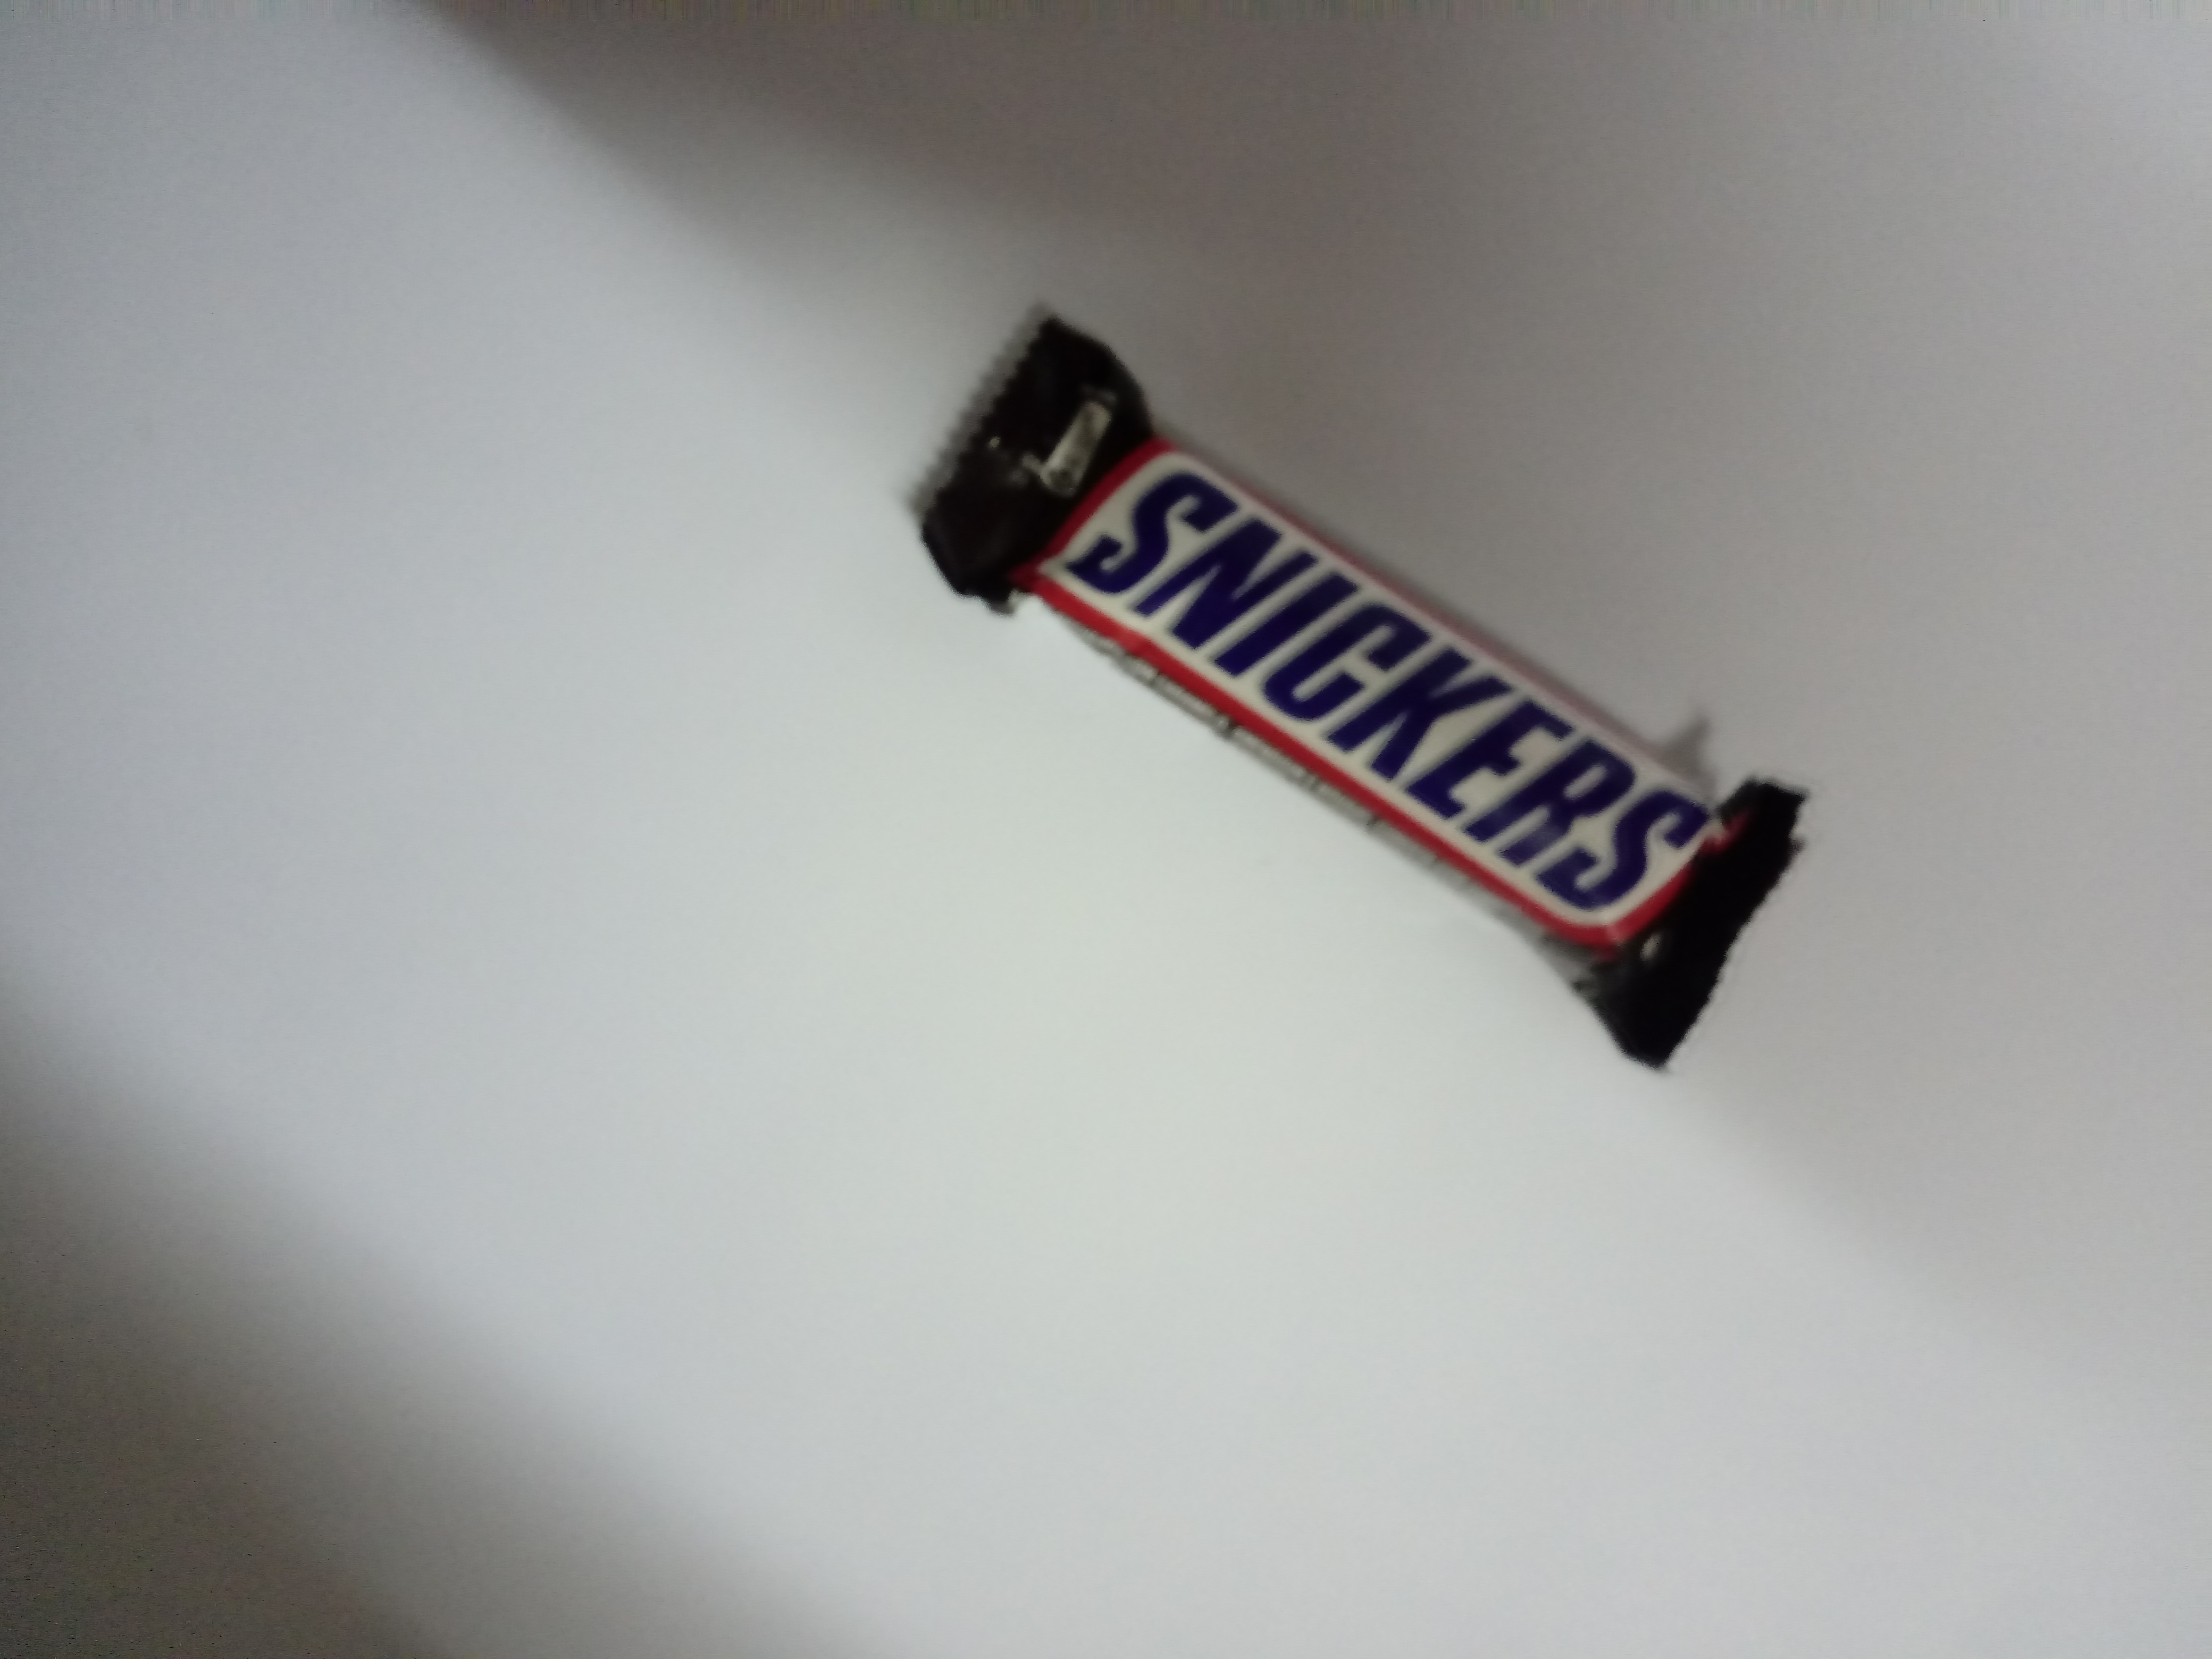snickers: (892, 282, 1815, 1086)
